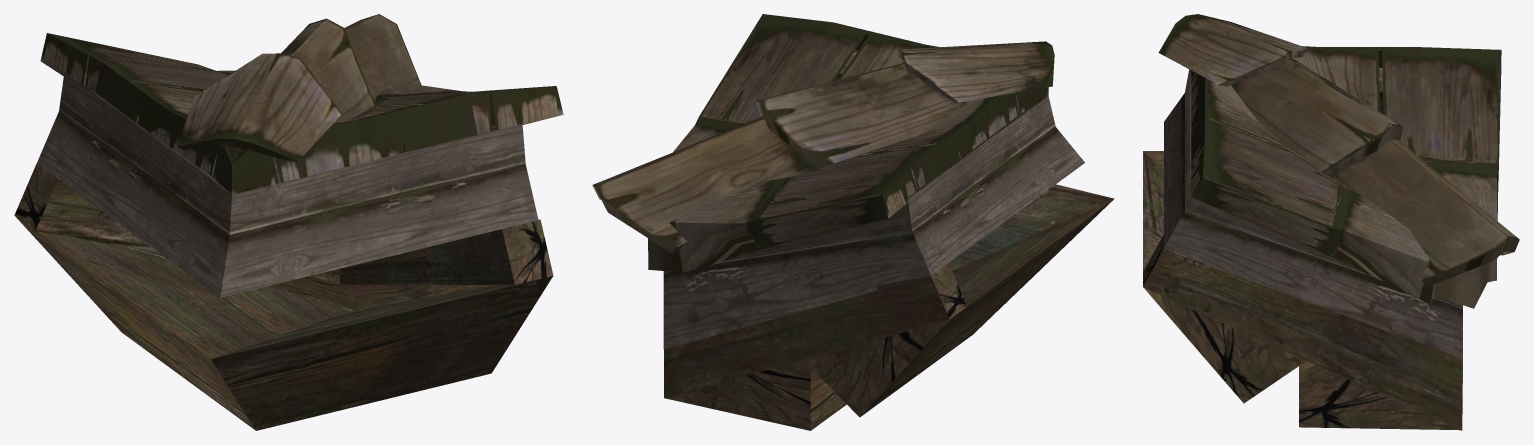
3 renders of one model, left to right at view 1: azimuth 30°, elevation 25°; view 2: azimuth 150°, elevation 25°; view 3: azimuth 270°, elevation 25°, orthographic. The views are drawn at different scales.
Visible parts, largest first — view 1: SM_T1_Roof_Small_Valley_Shallow_LOD0; view 2: SM_T1_Roof_Small_Valley_Shallow_LOD0; view 3: SM_T1_Roof_Small_Valley_Shallow_LOD0.
Part boxes in pixels (<box>): SM_T1_Roof_Small_Valley_Shallow_LOD0: <box>14,14,563,430</box>; SM_T1_Roof_Small_Valley_Shallow_LOD0: <box>592,14,1114,430</box>; SM_T1_Roof_Small_Valley_Shallow_LOD0: <box>1143,14,1519,430</box>.
Bounding box in the file's own units: 1.07 × 0.9599 × 1.07.
Materials: 3 (3 with a texture image).
